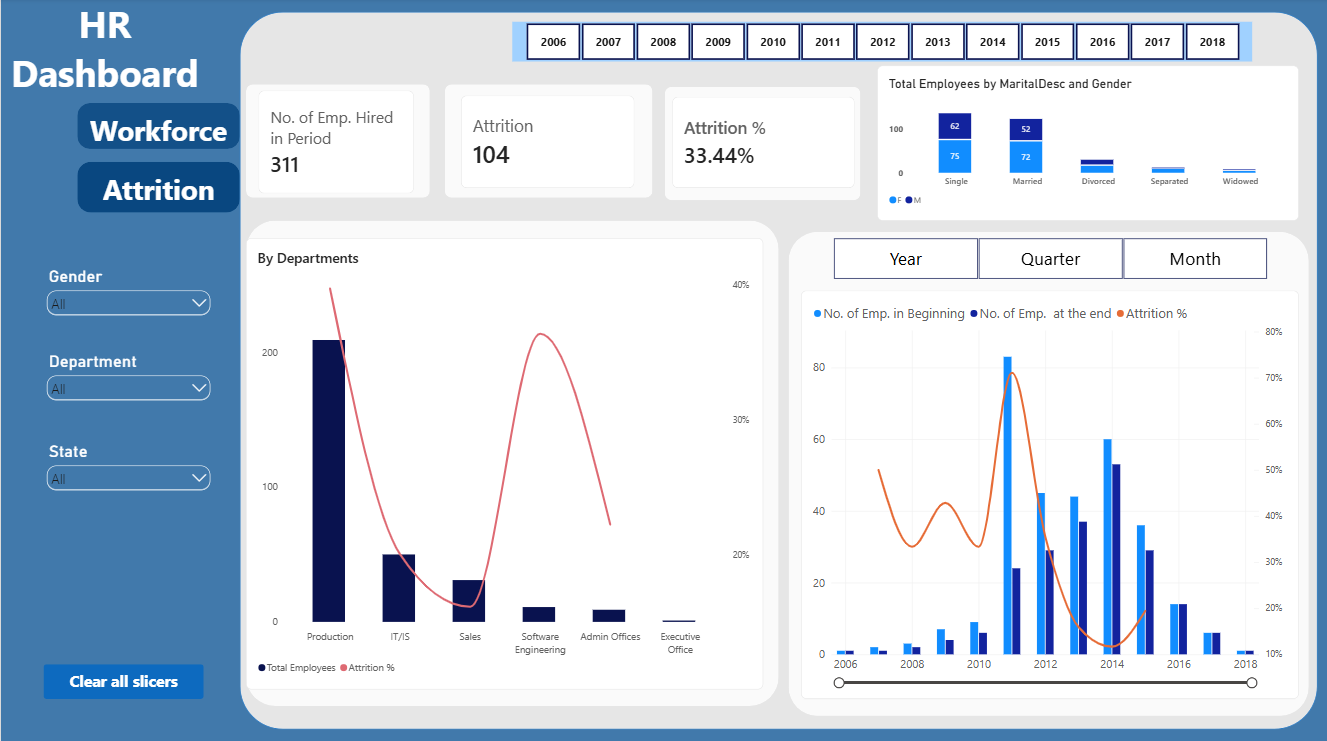

What the dashboard file says about the page in this screenshot:
{"tool":"powerbi","page":{"name":"Attrition ","canvas":[1920,1080],"ordinal":1},"visuals":[{"type":"textbox","box":[10.8,0,278.7,185.2],"z":0},{"type":"actionButton","title":"Workforce","box":[109.7,152.8,235.5,66.5],"z":1},{"type":"actionButton","box":[109.7,237.3,235.5,73.7],"z":2},{"type":"slicer","fields":{"Values":["HRDataset_v14.Sex"]},"box":[62,388.6,246.2,112.2],"z":3},{"type":"slicer","fields":{"Values":["HRDataset_v14.State"]},"box":[61.1,641.8,246.2,112.2],"z":4},{"type":"slicer","fields":{"Values":["HRDataset_v14.Department"]},"box":[61.1,512.4,246.2,112.2],"z":5},{"type":"actionButton","box":[61.1,965.4,231.9,50.3],"z":6},{"type":"shape","box":[345.2,19.8,1560.4,1039.1],"z":7},{"type":"shape","box":[354.9,125.5,266.2,164.5],"z":8},{"type":"shape","box":[642.8,125.5,300.8,164.5],"z":9},{"type":"shape","box":[960.9,127.7,283.5,164.5],"z":10},{"type":"shape","box":[1139.8,338,753.3,701.1],"z":12},{"type":"shape","box":[354.9,322.5,771.2,702.9],"z":13},{"type":"slicer","fields":{"Values":["HRDataset_v14.DateofHire.Variation.Date Hierarchy.Year"]},"box":[740.1,34.6,1071.5,57.5],"z":14},{"type":"cardVisual","fields":{"Data":["Measure Table.Attrition"]},"box":[666.6,140.7,251,134.2],"z":15},{"type":"cardVisual","fields":{"Data":["Measure Table.Attrition %"]},"box":[971.7,142.8,264,132],"z":16},{"type":"cardVisual","fields":{"Data":["Measure Table.Hired emp."]},"box":[372.2,134.2,225.1,149.3],"z":17},{"type":"columnChart","title":"Total Employees by MaritalDesc and Gender","fields":{"Category":["HRDataset_v14.MaritalDesc"],"Series":["HRDataset_v14.Sex"],"Y":["Measure Table.Total Employees"]},"box":[1268.2,97.4,610.3,225.1],"z":18},{"type":"lineClusteredColumnComboChart","title":"By Departments","fields":{"Category":["HRDataset_v14.Department"],"Y":["Measure Table.Total Employees"],"Y2":["Measure Table.Attrition %"]},"box":[355.1,346.7,748.8,653.6],"z":19},{"type":"lineClusteredColumnComboChart","fields":{"Category":["HRDataset_v14.DateofHire.Variation.Date Hierarchy.Year","HRDataset_v14.DateofHire.Variation.Date Hierarchy.Quarter","HRDataset_v14.DateofHire.Variation.Date Hierarchy.Month"],"Y":["Measure Table.Employees Beginning","Measure Table.Employees at the end"],"Y2":["Measure Table.Attrition %"]},"box":[1157.8,424.3,720.7,590.8],"z":20},{"type":"slicer","fields":{"Values":["date.date"]},"box":[1185.9,346.3,666.6,62.8],"z":21}]}

Visuals, with their boxes in screenshot pixels (x1, y1, x2, y2), scaled from the page's 1920x1080 canvas onto the 1327x741 screenshot:
textbox: {"x1": 7, "y1": 0, "x2": 200, "y2": 127}
"Workforce" actionButton: {"x1": 76, "y1": 105, "x2": 239, "y2": 150}
actionButton: {"x1": 76, "y1": 163, "x2": 239, "y2": 213}
slicer - HRDataset_v14.Sex: {"x1": 43, "y1": 267, "x2": 213, "y2": 344}
slicer - HRDataset_v14.State: {"x1": 42, "y1": 440, "x2": 212, "y2": 517}
slicer - HRDataset_v14.Department: {"x1": 42, "y1": 352, "x2": 212, "y2": 429}
actionButton: {"x1": 42, "y1": 662, "x2": 203, "y2": 697}
shape: {"x1": 239, "y1": 14, "x2": 1317, "y2": 727}
shape: {"x1": 245, "y1": 86, "x2": 429, "y2": 199}
shape: {"x1": 444, "y1": 86, "x2": 652, "y2": 199}
shape: {"x1": 664, "y1": 88, "x2": 860, "y2": 200}
shape: {"x1": 788, "y1": 232, "x2": 1308, "y2": 713}
shape: {"x1": 245, "y1": 221, "x2": 778, "y2": 704}
slicer - HRDataset_v14.DateofHire.Variation.Date Hierarchy.Year: {"x1": 512, "y1": 24, "x2": 1252, "y2": 63}
cardVisual - Measure Table.Attrition: {"x1": 461, "y1": 97, "x2": 634, "y2": 189}
cardVisual - Measure Table.Attrition %: {"x1": 672, "y1": 98, "x2": 854, "y2": 189}
cardVisual - Measure Table.Hired emp.: {"x1": 257, "y1": 92, "x2": 413, "y2": 195}
"Total Employees by MaritalDesc and Gender" columnChart: {"x1": 877, "y1": 67, "x2": 1298, "y2": 221}
"By Departments" lineClusteredColumnComboChart: {"x1": 245, "y1": 238, "x2": 763, "y2": 686}
lineClusteredColumnComboChart - HRDataset_v14.DateofHire.Variation.Date Hierarchy.Year x HRDataset_v14.DateofHire.Variation.Date Hierarchy.Quarter: {"x1": 800, "y1": 291, "x2": 1298, "y2": 696}
slicer - date.date: {"x1": 820, "y1": 238, "x2": 1280, "y2": 281}
